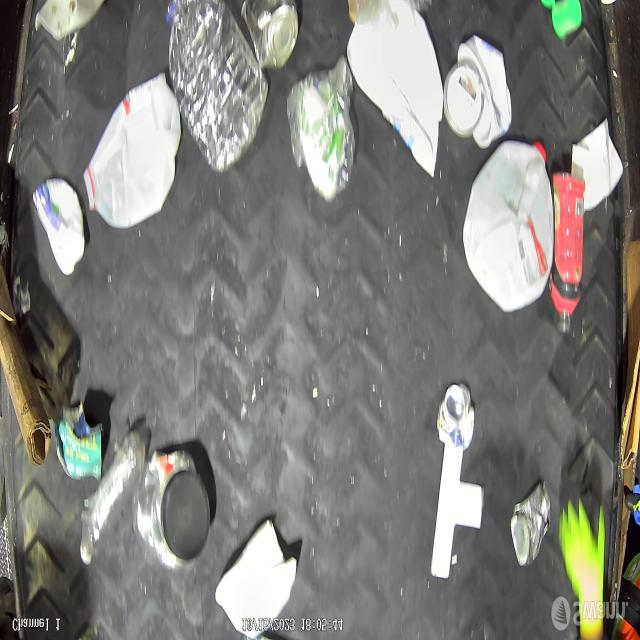can: (242, 0, 300, 75), (508, 483, 552, 567), (436, 385, 476, 449)
milk_jug: (461, 142, 552, 318), (84, 76, 180, 230)
plastic_bottle: (164, 0, 270, 176), (79, 431, 145, 566)
